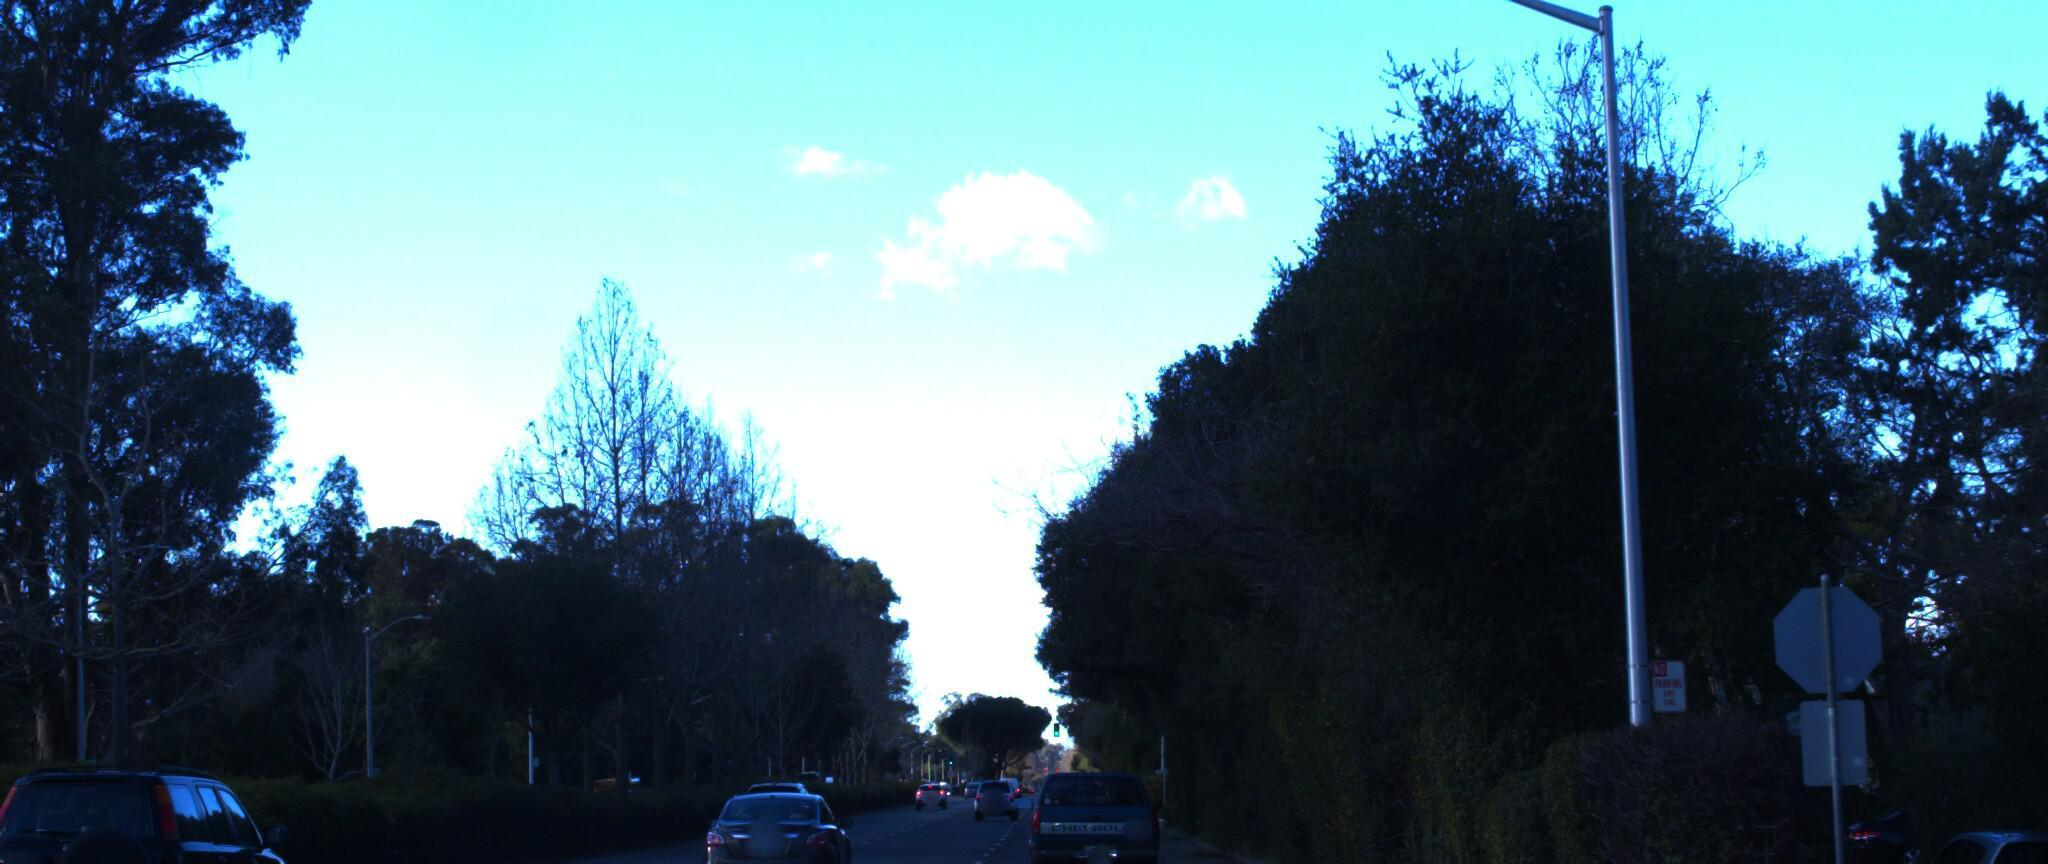car: (0, 723, 332, 864), (1012, 749, 1182, 864), (1829, 780, 2048, 864), (688, 777, 856, 864), (1865, 812, 2048, 864)
